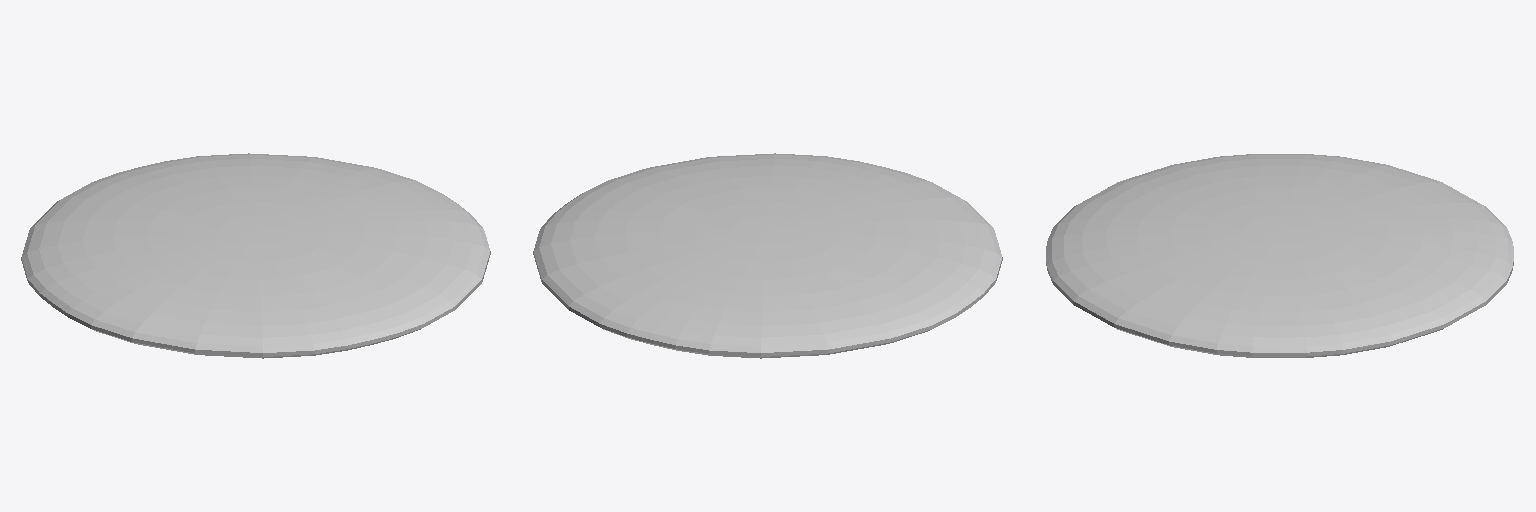
The model's file is disco_nave.obj.
3 renders of one model, left to right at view 1: azimuth 30°, elevation 25°; view 2: azimuth 150°, elevation 25°; view 3: azimuth 270°, elevation 25°, orthographic.
Visible parts, largest first — view 1: SurfSphere.001; view 2: SurfSphere.001; view 3: SurfSphere.001.
Boxes of the visible parts, <box> form: SurfSphere.001: <box>21,153,490,358</box>; SurfSphere.001: <box>533,153,1002,358</box>; SurfSphere.001: <box>1046,154,1513,357</box>.
Bounding box in the file's own units: 12.7 × 1.51 × 12.7.